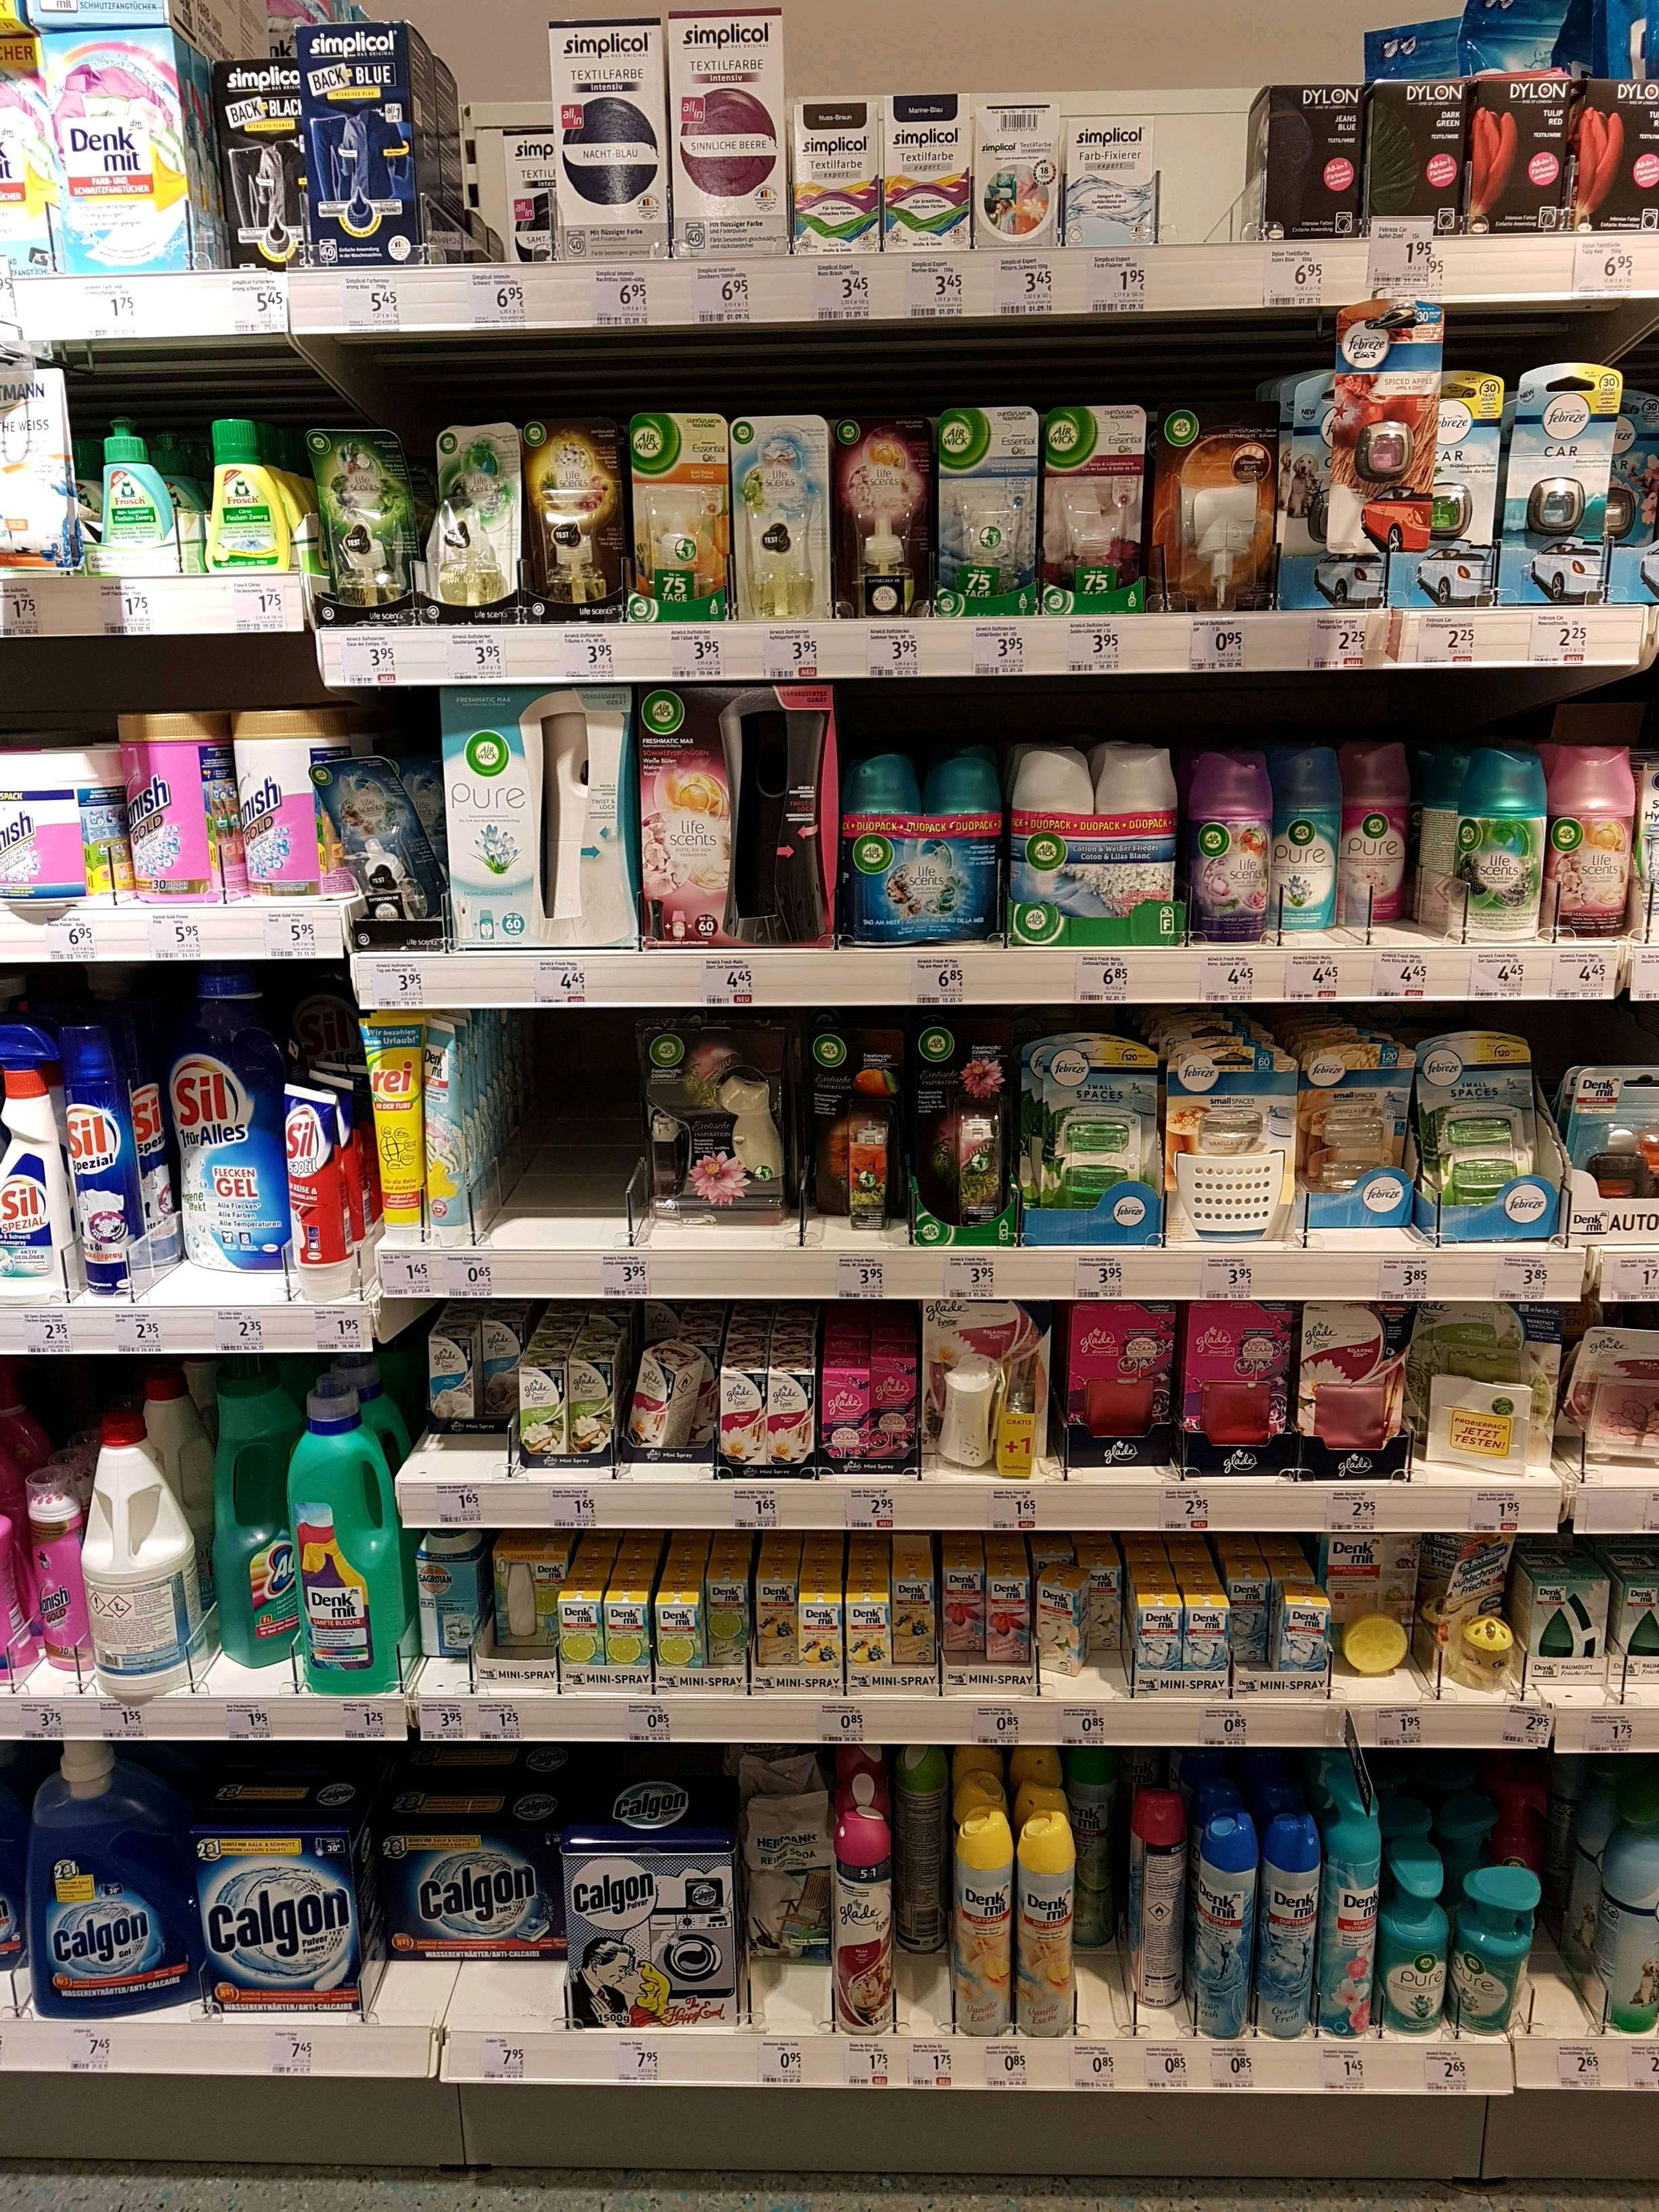misalignment: (305, 756, 450, 923), (1565, 1324, 1659, 1454), (1446, 1536, 1520, 1689), (634, 1339, 695, 1451), (1037, 1562, 1089, 1676)
